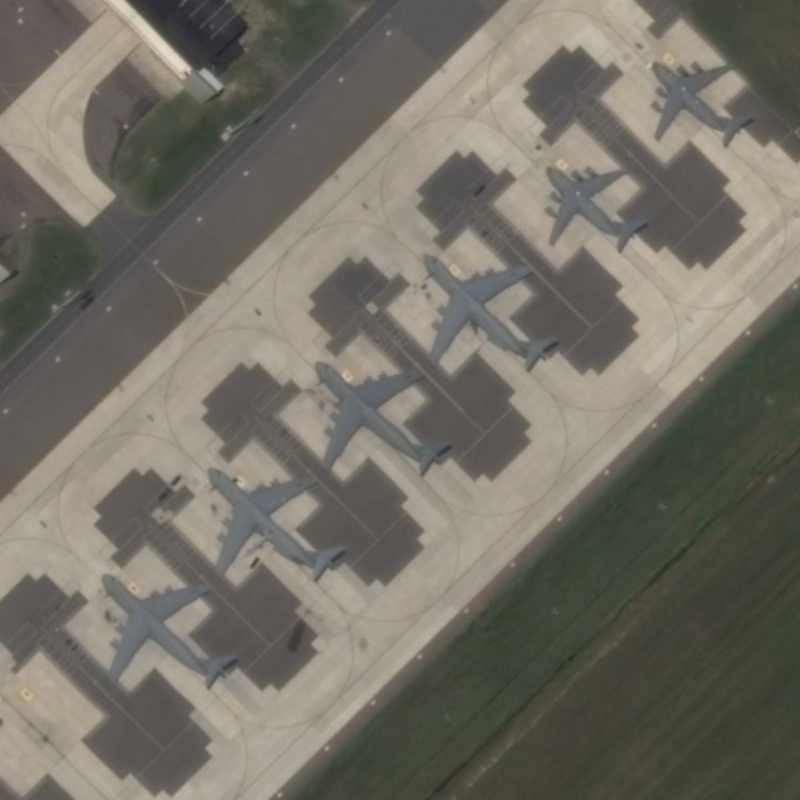A3: (645, 45, 761, 155), (539, 158, 653, 259)
A4: (305, 345, 460, 483), (415, 239, 564, 378), (97, 565, 249, 700), (204, 454, 350, 586)
